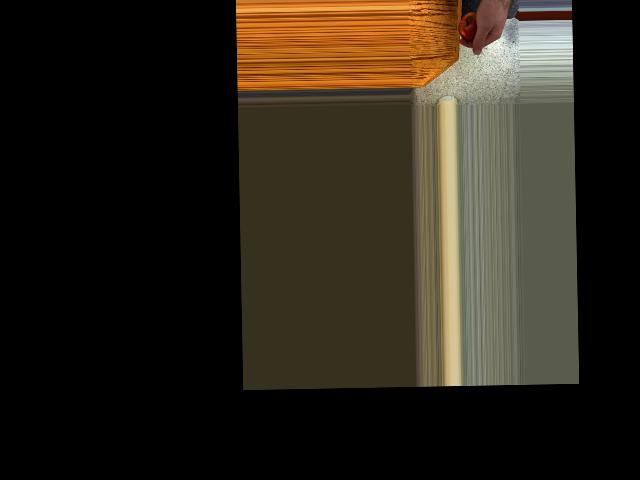apple: (457, 11, 483, 43)
